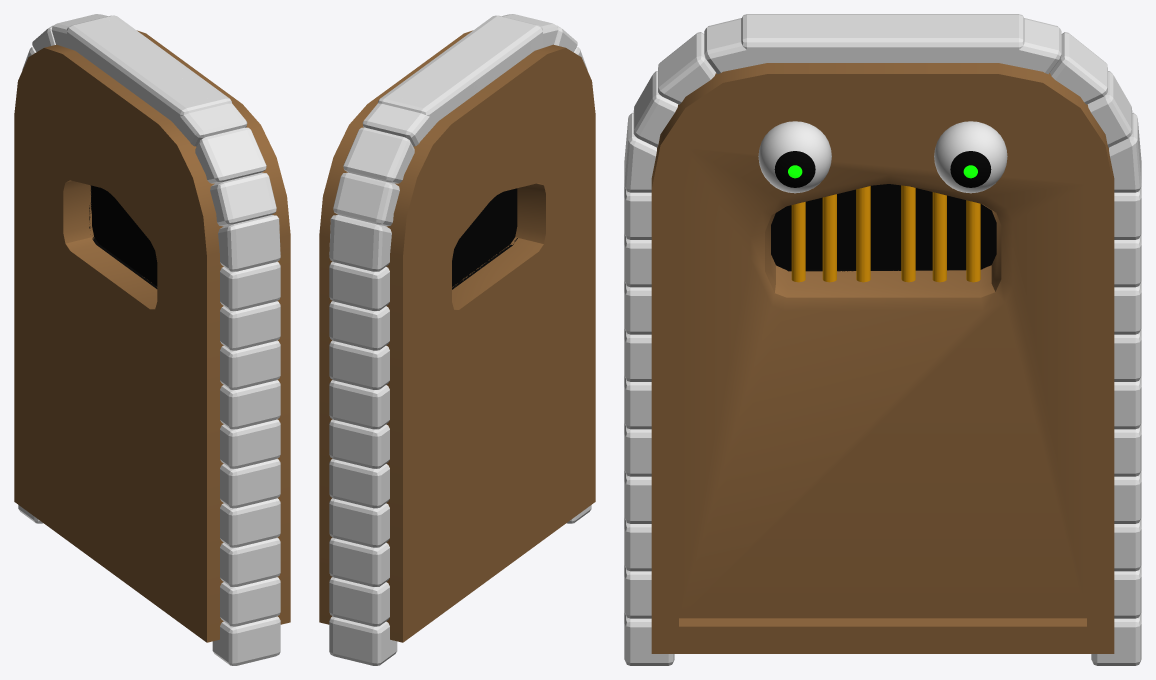
Rendered from Door.fbx.
3 views of the same model, side by side, from view 1: azimuth 30°, elevation 25°; view 2: azimuth 150°, elevation 25°; view 3: azimuth 270°, elevation 25° (orthographic). The views are drawn at different scales.
Parts seen in each view (by area): view 1: Sphere; view 2: Sphere; view 3: Sphere.
Part boxes in pixels (x1=…): Sphere: x1=14, y1=14, x2=290, y2=665; Sphere: x1=319, y1=14, x2=595, y2=665; Sphere: x1=624, y1=14, x2=1141, y2=665.
Size of the model in its own units: 124 by 619 by 463.
